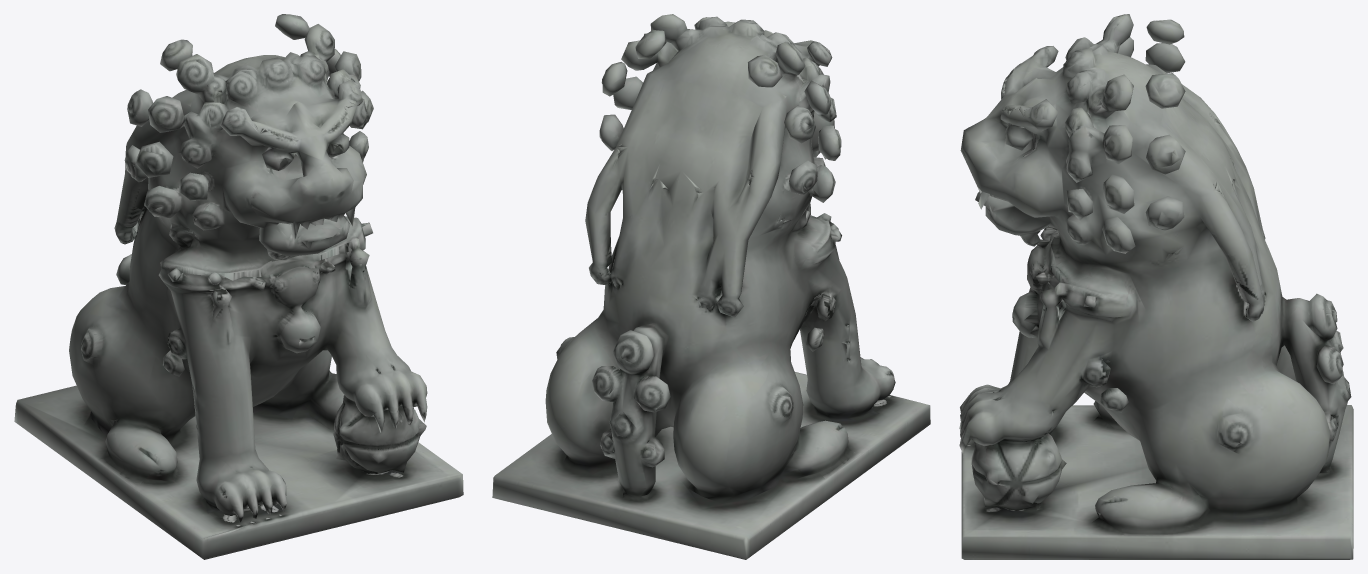
File: nghe_duc.glb
3 views of the same model, side by side, from view 1: azimuth 30°, elevation 25°; view 2: azimuth 150°, elevation 25°; view 3: azimuth 270°, elevation 25° (orthographic). The views are drawn at different scales.
Visible parts, largest first — view 1: nghe_duc; view 2: nghe_duc; view 3: nghe_duc.
Part boxes in pixels (<box>): nghe_duc: <box>14,14,463,559</box>; nghe_duc: <box>492,14,930,559</box>; nghe_duc: <box>959,14,1353,559</box>.
Bounding box in the file's own units: 0.7999 × 1.26 × 1.01.
Materials: 1 (1 with a texture image).
